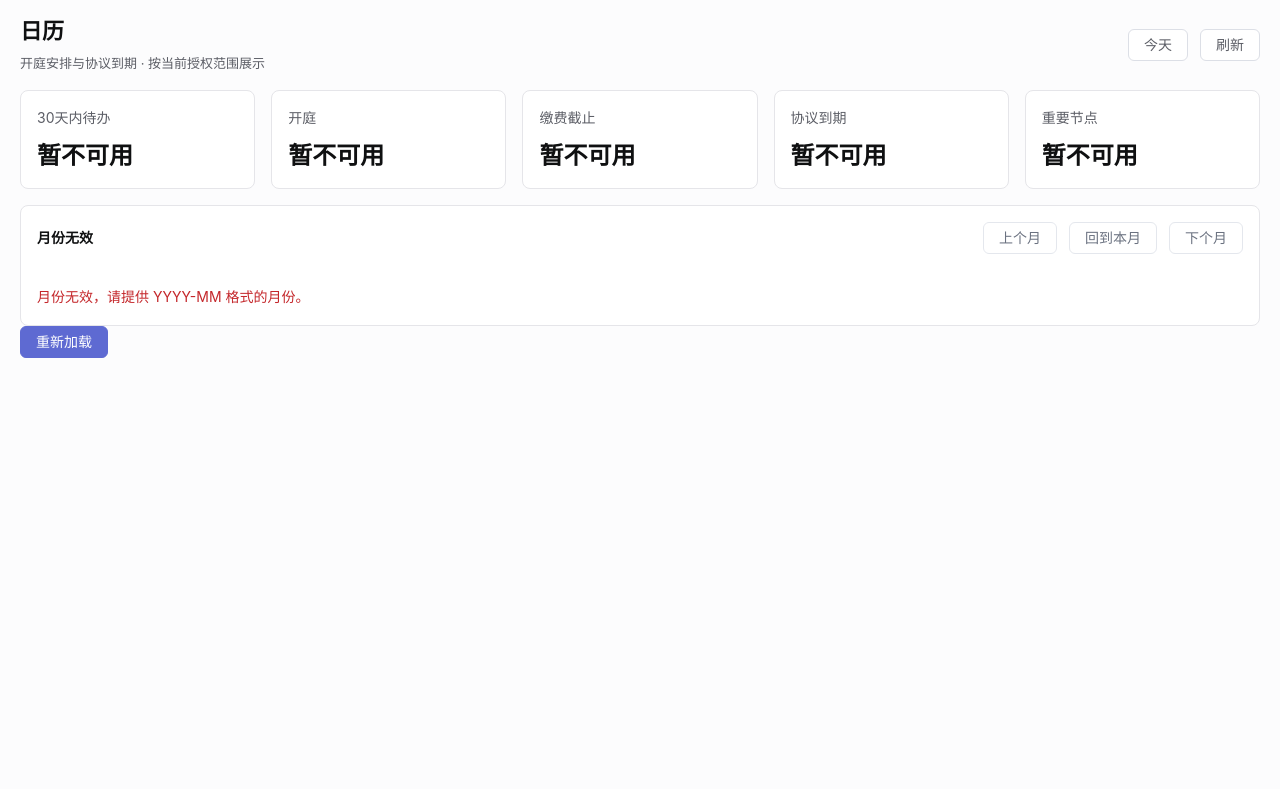
Scenario: CalendarPage › recovers an invalid month using the Today action and server calendar day
This screenshot has width=1280, height=789.
Step 1. Click the button with aria-label "今天" → (1158, 45), box [1128,29,1188,61]
(page scrolled)
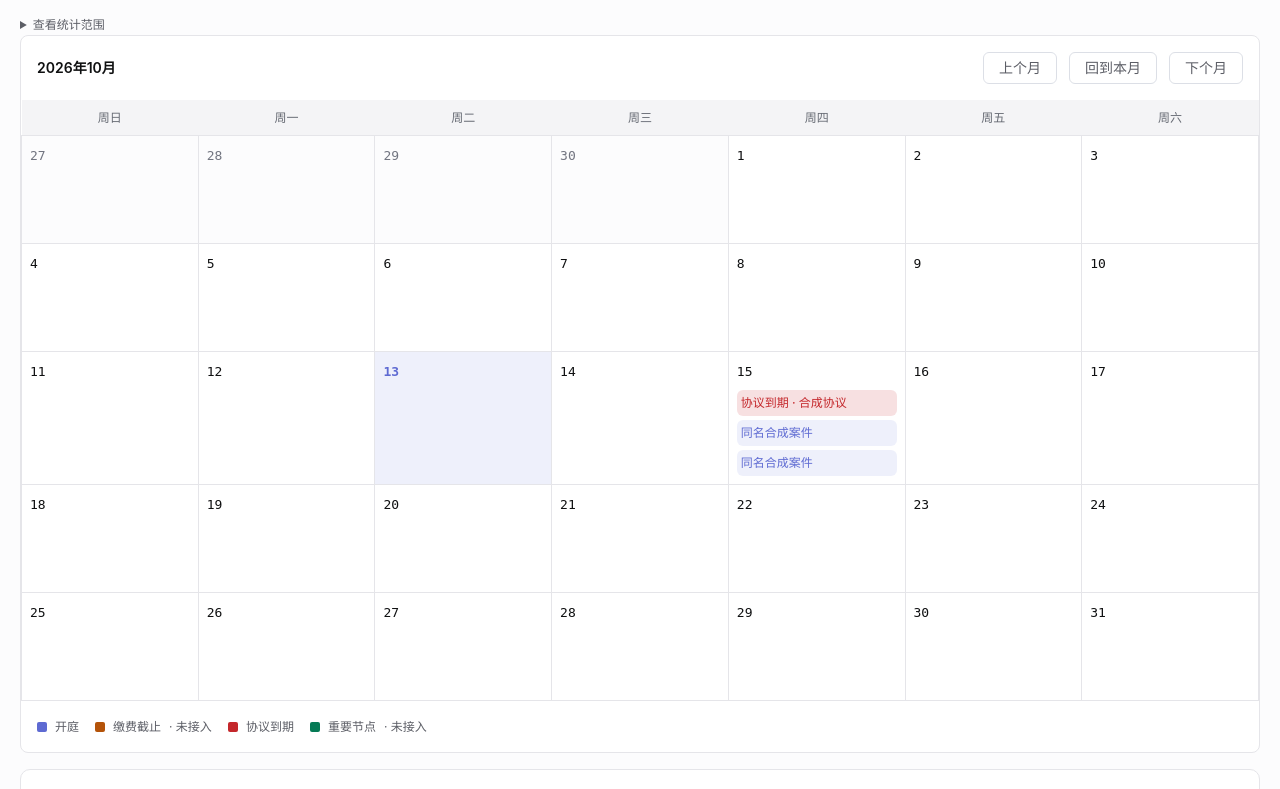
Result: the table is shown
